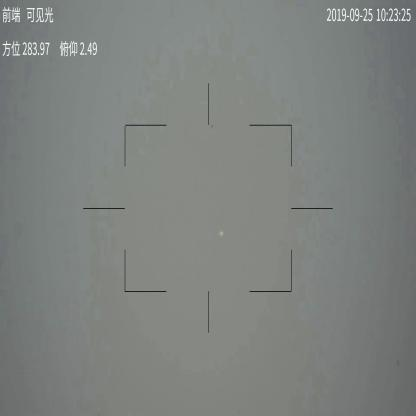uav: (220, 232, 225, 238)
